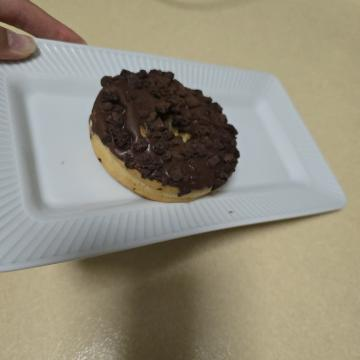doughnut: (49, 114, 222, 289)
